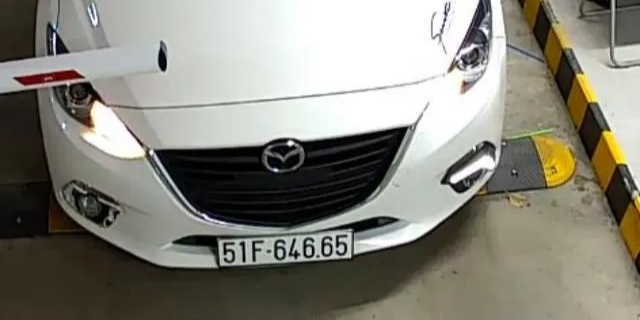bien_so: (219, 235, 352, 266)
